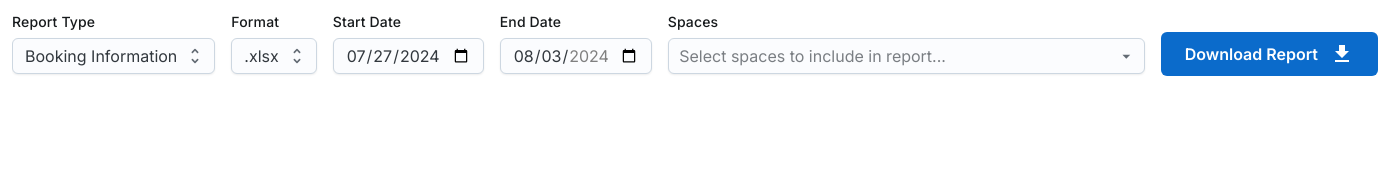
Test: ReportGenerationForm › shows error when selecting no spaces
Click the button "Download Report" at (1269, 54), box x1=1161 y1=32 x2=1378 y2=76
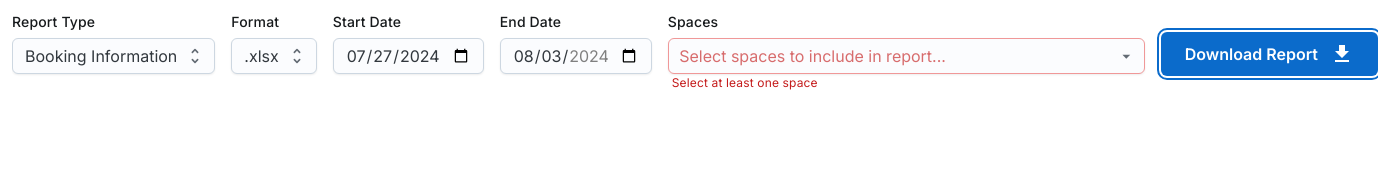
Expected: the text "Select at least one space" is shown, x1=672 y1=75 x2=818 y2=90
